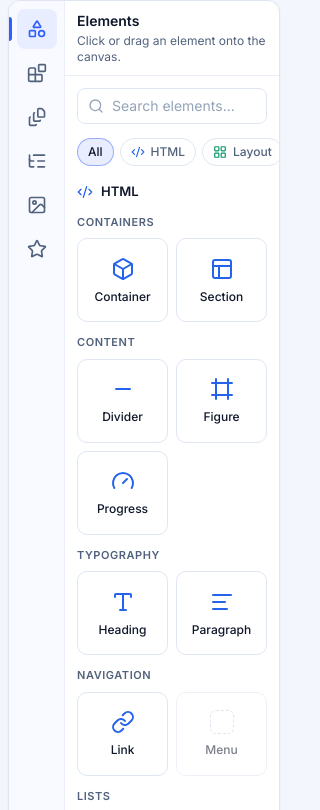
Scenario: ResourceSidebar › switches the context panel content when a different navigation item is clicked
This screenshot has width=320, height=810.
Click the 5th tab named "Assets". click: (36, 205)
box: x1=16 y1=185 x2=56 y2=225
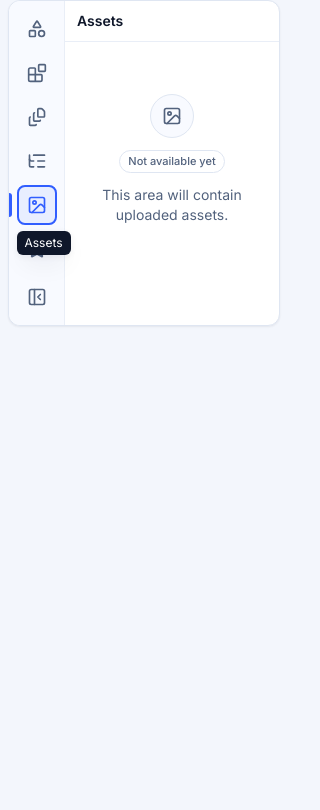
Expected: the search field labelled "Search elements" is not shown
Now the text "This area will contain uploaded assets." is shown, box x1=102 y1=186 x2=242 y2=222
Now the text "Not available yet" is shown, box x1=119 y1=150 x2=225 y2=172
